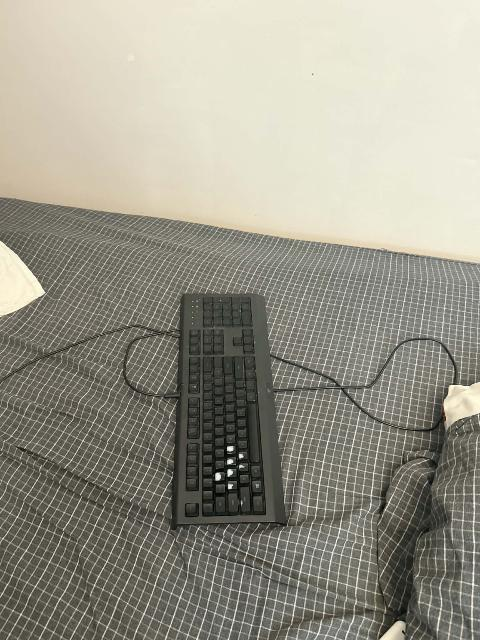ahkeyboard: (166, 275, 293, 540)
